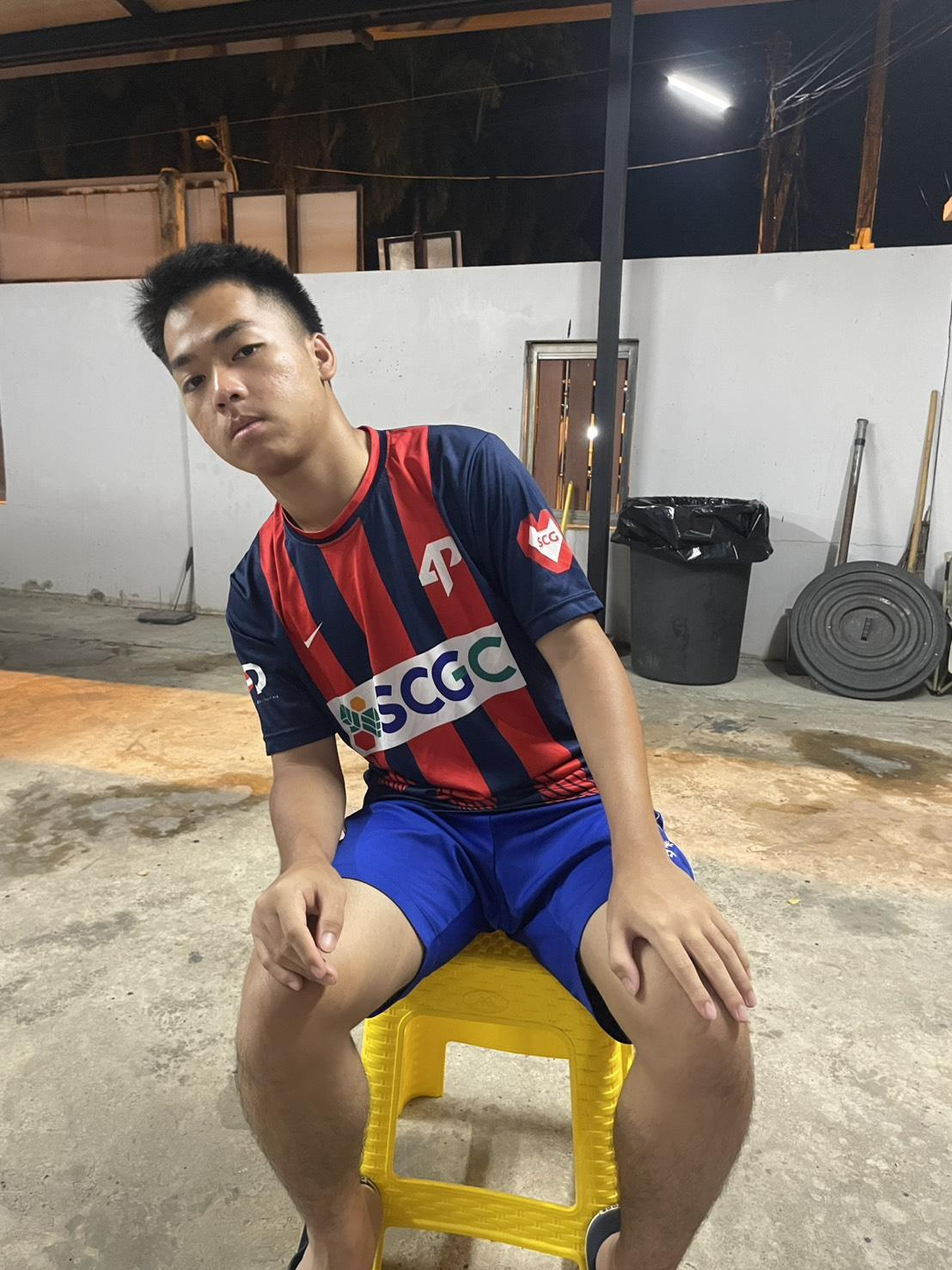BadPosture: (137, 244, 654, 841)
